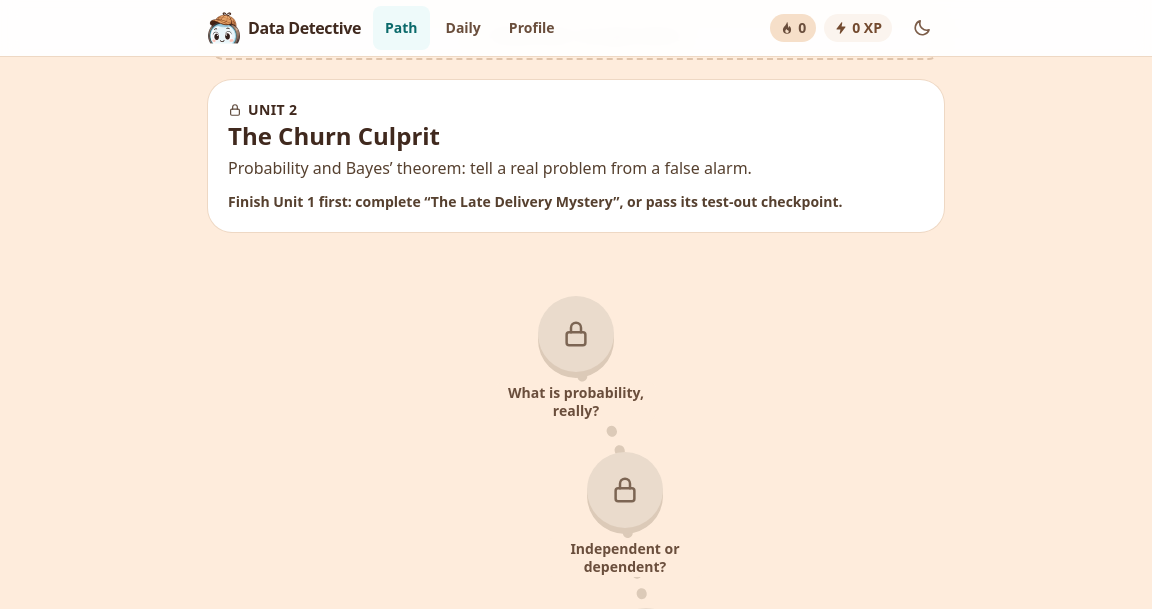
Scenario: units in sequence › keeps Unit 2 locked, and says how to open it
(page scrolled)
Check: the text "Finish Unit 1 first: complete “The Late Delivery Mystery”" is shown, box x1=228 y1=192 x2=843 y2=211
Check: the text "Finish Unit 1 to open Unit 2" is shown, box x1=208 y1=12 x2=944 y2=60
Click the button with aria-label "lesson 1: what is probability, really?, locked" at {"x": 576, "y": 360}, box x1=496 y1=296 x2=656 y2=425
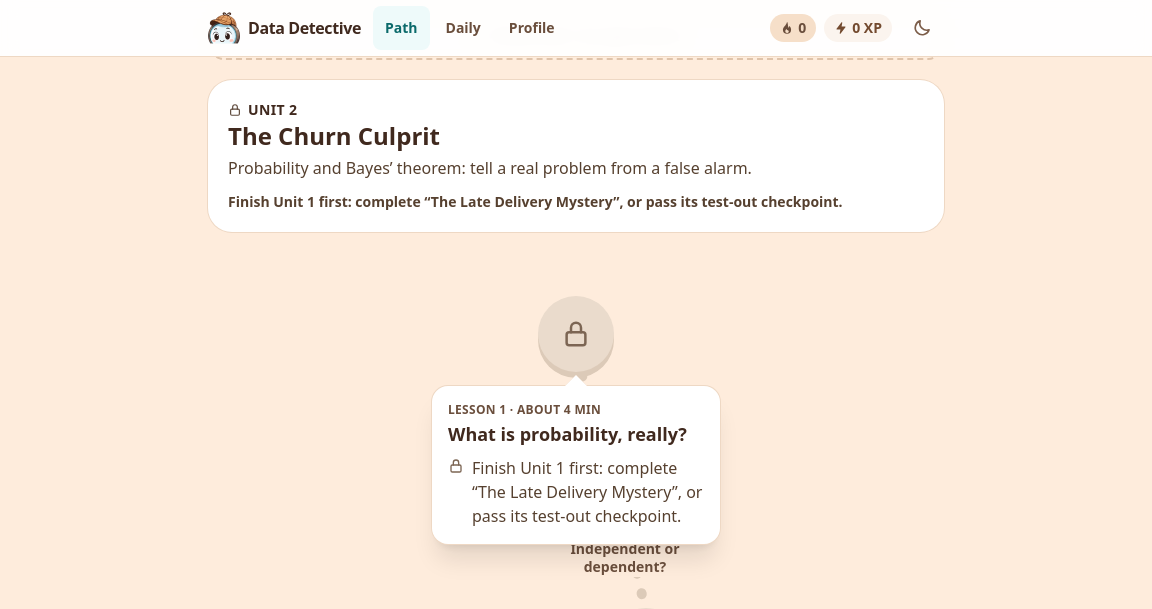
Check: the dialog shows "Finish Unit 1 first", box x1=472 y1=457 x2=702 y2=527
